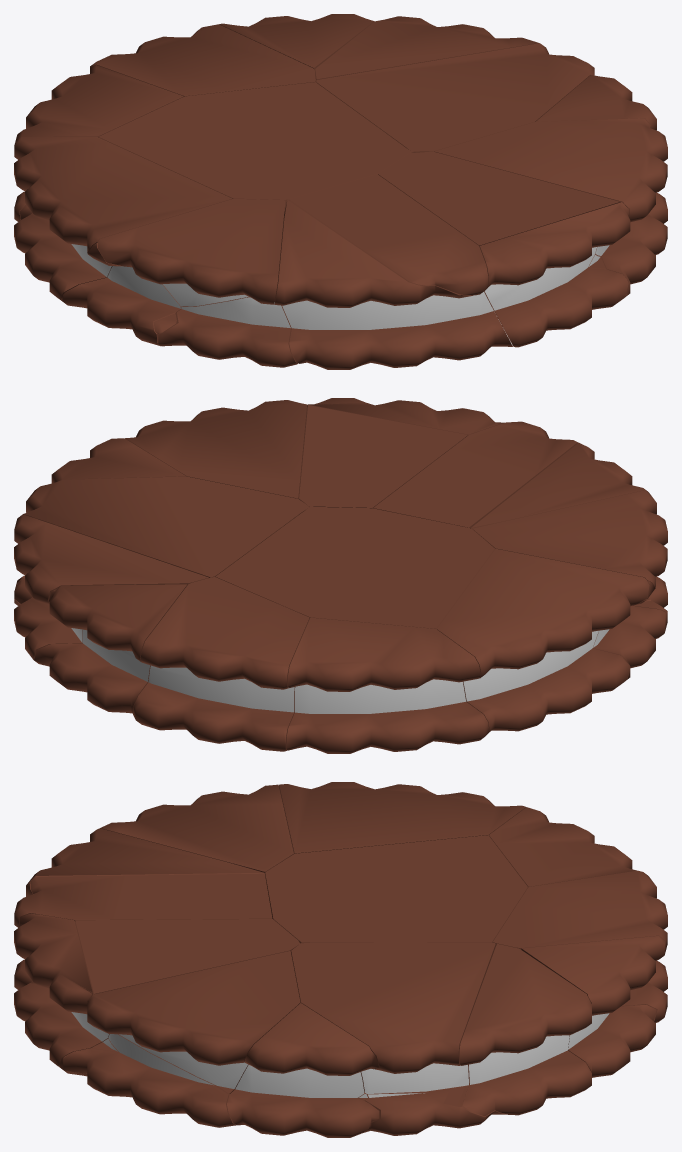
File: Keks-Kaputt.fbx
The picture shows the model from 3 angles, top to bottom: view 1: azimuth 30°, elevation 25°; view 2: azimuth 150°, elevation 25°; view 3: azimuth 270°, elevation 25°; orthographic projection.
Visible parts, largest first — view 1: Keks-Kaputt_cell.020, Keks-Kaputt_cell.013, Keks-Kaputt_cell.017, Keks-Kaputt_cell.011, Keks-Kaputt_cell.007, Keks-Kaputt_cell.010, Keks-Kaputt_cell.018, Keks-Kaputt_cell.016, Keks-Kaputt_cell, Keks-Kaputt_cell.021, Keks-Kaputt_cell.008, Keks-Kaputt_cell.015 (+5 smaller); view 2: Keks-Kaputt_cell.017, Keks-Kaputt_cell.020, Keks-Kaputt_cell.008, Keks-Kaputt_cell.021, Keks-Kaputt_cell.011, Keks-Kaputt_cell.023, Keks-Kaputt_cell.018, Keks-Kaputt_cell, Keks-Kaputt_cell.015, Keks-Kaputt_cell.016, Keks-Kaputt_cell.007, Keks-Kaputt_cell.013 (+3 smaller); view 3: Keks-Kaputt_cell.020, Keks-Kaputt_cell.011, Keks-Kaputt_cell.018, Keks-Kaputt_cell.015, Keks-Kaputt_cell.019, Keks-Kaputt_cell.017, Keks-Kaputt_cell, Keks-Kaputt_cell.021, Keks-Kaputt_cell.016, Keks-Kaputt_cell.023, Keks-Kaputt_cell.007, Keks-Kaputt_cell.010 (+4 smaller).
Part boxes in pixels (x1,y1,x2,y2): Keks-Kaputt_cell.020: (98, 82, 411, 211); Keks-Kaputt_cell.013: (274, 200, 512, 369); Keks-Kaputt_cell.017: (14, 137, 232, 301); Keks-Kaputt_cell.011: (316, 43, 594, 152); Keks-Kaputt_cell.007: (97, 199, 285, 306); Keks-Kaputt_cell.010: (479, 202, 630, 347); Keks-Kaputt_cell.018: (434, 118, 667, 222); Keks-Kaputt_cell.016: (289, 174, 488, 295); Keks-Kaputt_cell: (378, 151, 620, 246); Keks-Kaputt_cell.021: (90, 24, 316, 96); Keks-Kaputt_cell.008: (14, 65, 183, 221); Keks-Kaputt_cell.015: (315, 16, 545, 79); Keks-Kaputt_cell.017: (437, 549, 649, 731); Keks-Kaputt_cell.020: (215, 506, 494, 629); Keks-Kaputt_cell.008: (286, 617, 489, 753); Keks-Kaputt_cell.021: (133, 577, 309, 751); Keks-Kaputt_cell.011: (21, 476, 309, 577); Keks-Kaputt_cell.023: (34, 584, 187, 713); Keks-Kaputt_cell.018: (125, 400, 307, 498); Keks-Kaputt_cell: (299, 405, 467, 508); Keks-Kaputt_cell.015: (14, 514, 208, 665); Keks-Kaputt_cell.016: (373, 421, 577, 527); Keks-Kaputt_cell.007: (473, 490, 667, 587); Keks-Kaputt_cell.013: (469, 442, 650, 528); Keks-Kaputt_cell.020: (265, 835, 527, 943); Keks-Kaputt_cell.011: (291, 942, 495, 1105); Keks-Kaputt_cell.018: (87, 951, 300, 1093); Keks-Kaputt_cell.015: (459, 944, 591, 1116); Keks-Kaputt_cell.019: (227, 1003, 379, 1137); Keks-Kaputt_cell.017: (279, 782, 526, 853); Keks-Kaputt_cell: (75, 919, 299, 994); Keks-Kaputt_cell.021: (492, 870, 667, 1022); Keks-Kaputt_cell.016: (14, 873, 272, 927); Keks-Kaputt_cell.023: (521, 936, 665, 1077); Keks-Kaputt_cell.007: (100, 784, 293, 873); Keks-Kaputt_cell.010: (14, 913, 109, 1066).
Bounding box in the file's own units: 210 × 30 × 210.
